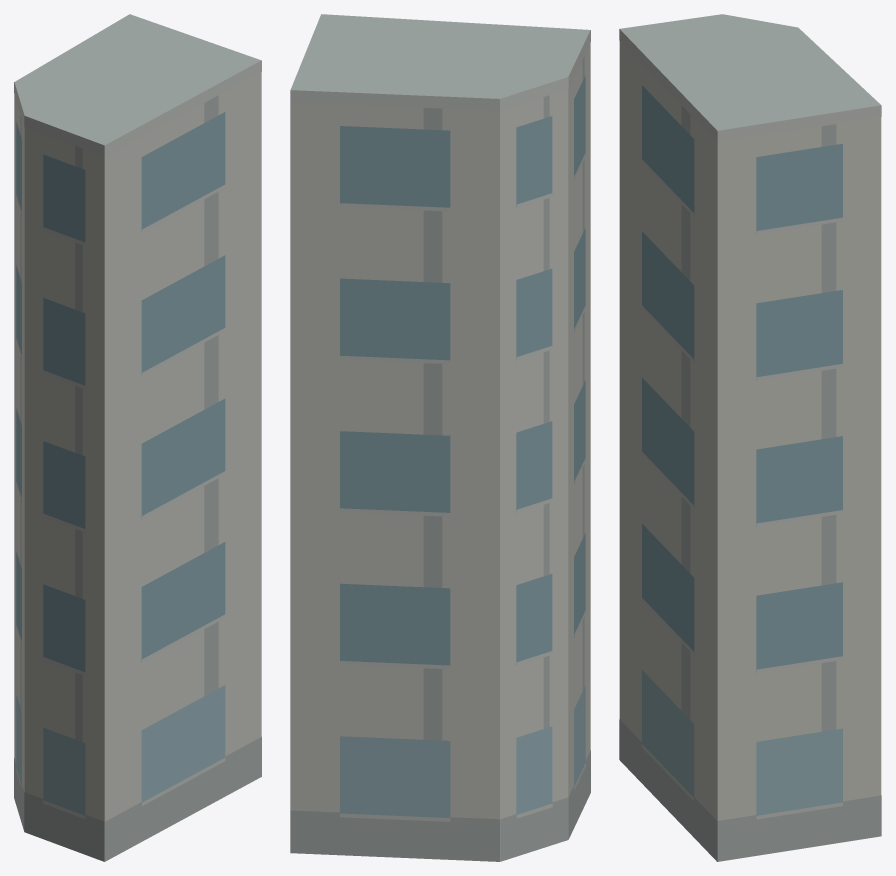
The model's file is survey-upis-32583857.glb.
3 views of the same model, side by side, from view 1: azimuth 30°, elevation 25°; view 2: azimuth 150°, elevation 25°; view 3: azimuth 270°, elevation 25° (orthographic). The views are drawn at different scales.
Visible parts, largest first — view 1: survey-upis-32583857.tmp; view 2: survey-upis-32583857.tmp; view 3: survey-upis-32583857.tmp.
Boxes of the visible parts, x1,y1,x2,y2 form: survey-upis-32583857.tmp: (14,14,261,861); survey-upis-32583857.tmp: (290,14,590,861); survey-upis-32583857.tmp: (619,14,881,861).
Size of the model in its own units: 5.23 by 15.25 by 4.96.
